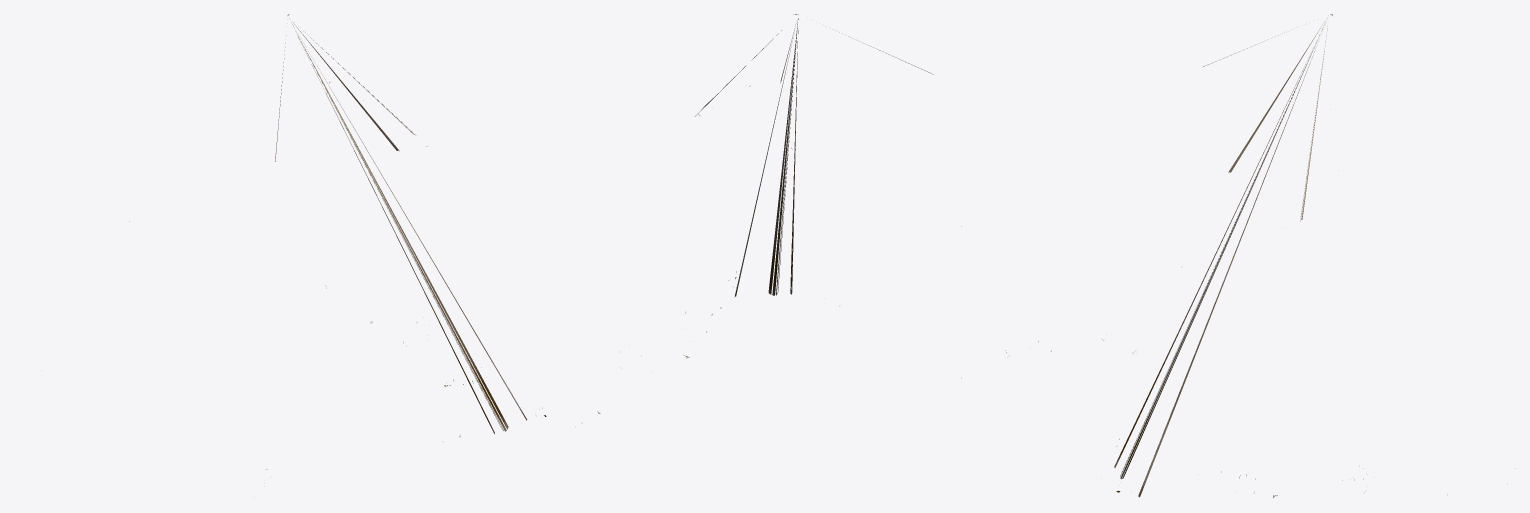
The model's file is orc_pen_01.glb.
The picture shows the model from 3 angles, left to right: view 1: azimuth 30°, elevation 25°; view 2: azimuth 150°, elevation 25°; view 3: azimuth 270°, elevation 25°; orthographic projection. The views are drawn at different scales.
Parts seen in each view (by area): view 1: geometry_0; view 2: geometry_0; view 3: geometry_0.
Part boxes in pixels (x1,y1,x2,y2): geometry_0: (129, 14, 546, 469); geometry_0: (581, 14, 1051, 423); geometry_0: (1102, 14, 1515, 497).
Size of the model in its own units: 0.8328 by 0.8697 by 0.8304.
Materials: 1 (1 with a texture image).
